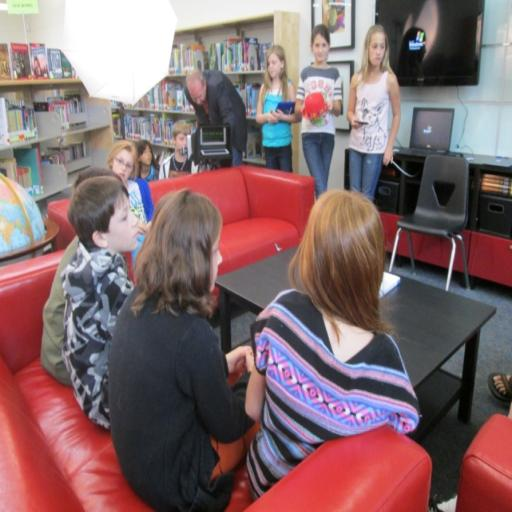bus: (387, 148, 489, 297)
hole: (35, 15, 423, 512)
laptop: (246, 191, 418, 498), (110, 189, 252, 510), (347, 25, 400, 200), (296, 24, 342, 197)
sidewalk: (0, 252, 149, 511), (150, 166, 314, 274), (456, 415, 511, 511)
